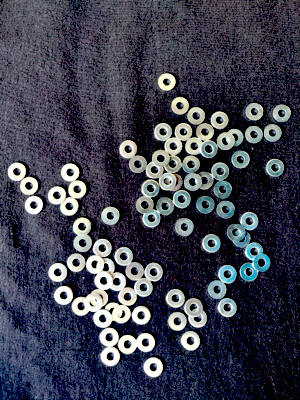circle: (219, 297, 240, 320), (144, 357, 164, 380), (118, 335, 139, 356), (167, 311, 187, 333), (272, 104, 292, 125), (216, 201, 237, 221), (175, 217, 195, 238), (208, 280, 228, 301), (101, 206, 122, 226), (232, 150, 252, 170), (85, 255, 105, 275), (48, 262, 68, 282), (25, 196, 45, 216), (7, 162, 27, 182), (267, 158, 286, 179), (181, 156, 202, 175), (129, 154, 148, 175), (203, 233, 222, 254), (185, 297, 204, 318), (181, 332, 202, 351), (137, 333, 156, 354), (227, 128, 246, 148), (214, 180, 234, 199), (188, 107, 208, 126), (158, 72, 178, 91), (241, 211, 260, 231), (240, 263, 260, 282), (167, 288, 186, 308), (116, 246, 135, 266), (108, 273, 127, 293), (97, 258, 116, 278), (94, 238, 113, 258), (93, 310, 113, 329), (67, 253, 86, 273), (74, 234, 93, 254), (69, 180, 89, 199), (62, 163, 81, 183), (20, 176, 40, 195), (245, 243, 266, 261), (49, 185, 67, 206), (265, 124, 284, 143), (196, 123, 215, 142), (196, 172, 215, 191), (196, 196, 215, 215), (173, 190, 192, 209), (142, 179, 161, 198), (156, 198, 175, 217), (227, 224, 246, 243), (254, 254, 273, 273), (219, 265, 238, 284), (145, 263, 164, 282), (133, 306, 152, 325), (126, 263, 145, 282), (102, 348, 121, 367), (73, 218, 92, 237), (171, 97, 191, 115), (166, 174, 184, 194), (135, 196, 155, 214), (118, 288, 138, 306), (113, 305, 131, 325), (72, 297, 90, 317), (54, 287, 74, 305), (61, 197, 79, 217), (106, 302, 123, 323), (212, 111, 230, 130), (212, 162, 231, 180), (184, 173, 202, 192), (165, 137, 183, 156), (164, 155, 182, 174), (120, 141, 139, 159), (234, 230, 252, 249), (136, 279, 154, 298), (101, 328, 119, 347), (247, 125, 264, 145), (89, 291, 109, 308), (246, 103, 264, 121), (155, 123, 173, 141), (159, 173, 177, 191), (191, 310, 209, 328), (94, 273, 112, 291), (85, 294, 102, 313), (202, 140, 218, 160), (218, 133, 235, 151), (176, 123, 193, 141), (153, 150, 170, 168), (144, 211, 161, 229), (147, 162, 164, 179), (186, 138, 204, 154)
